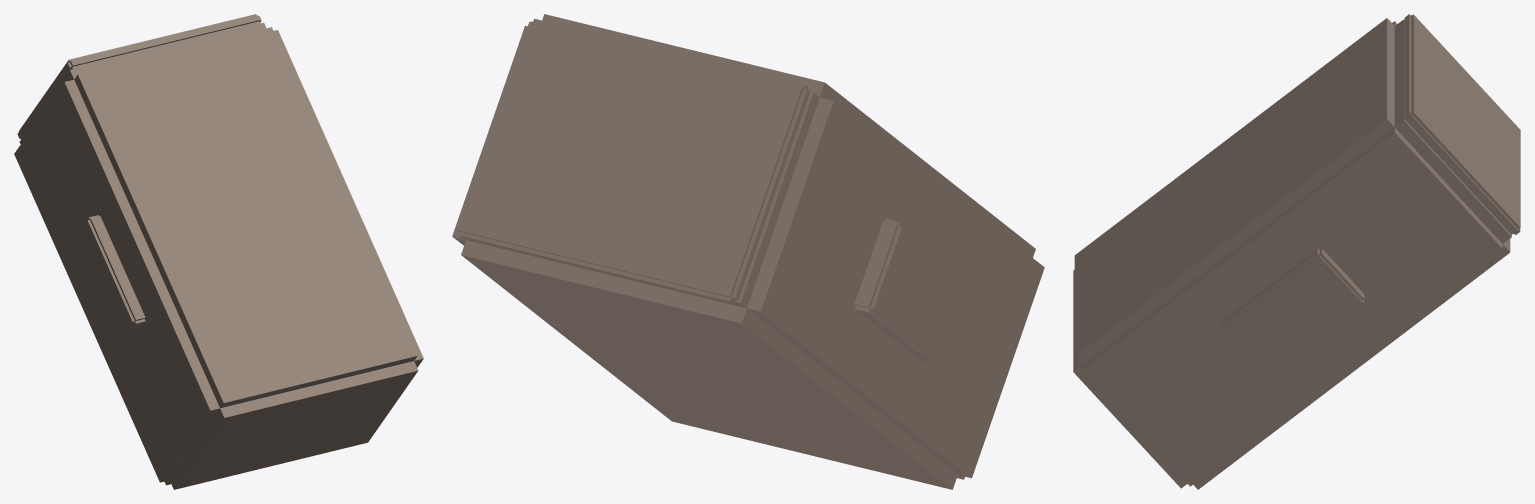
The model's file is cluster_dispenser_housing.glb.
3 views of the same model, side by side, from view 1: azimuth 30°, elevation 25°; view 2: azimuth 150°, elevation 25°; view 3: azimuth 270°, elevation 25° (orthographic). The views are drawn at different scales.
Parts seen in each view (by area): view 1: cluster_dispenser_housing; view 2: cluster_dispenser_housing; view 3: cluster_dispenser_housing.
Part boxes in pixels (bbox=[...]): cluster_dispenser_housing: bbox=[14, 14, 423, 489]; cluster_dispenser_housing: bbox=[452, 14, 1044, 489]; cluster_dispenser_housing: bbox=[1073, 14, 1520, 489].
Bounding box in the file's own units: 0.49 × 0.6925 × 0.7462.
